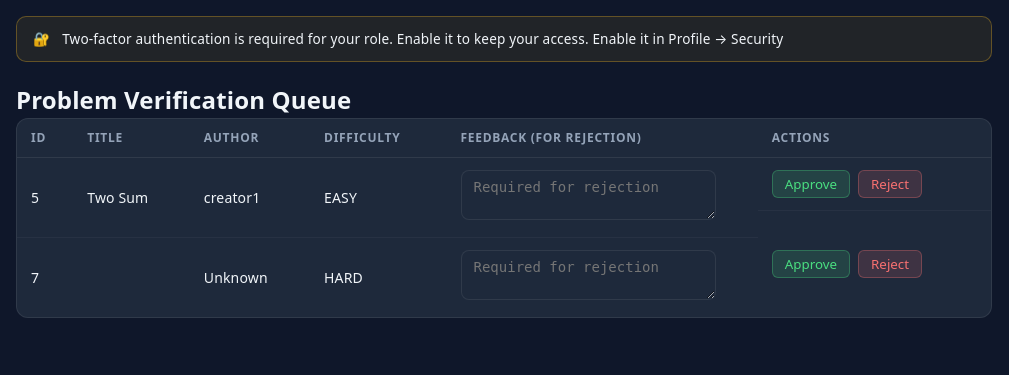
Scenario: ProblemVerificationQueuePage (/admin/problem-queue) › blocks rejection when no feedback was entered
Expected: the link "Two Sum" is shown, [87,188,148,207]
Click the button "Reject" in the row of "Two Sum" at coordinates (890, 184), box [858,170,922,198]
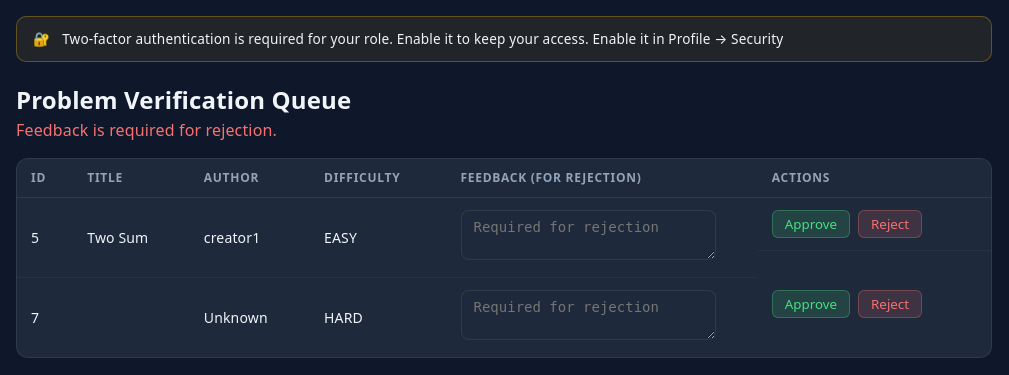
Now the text "Feedback is required for rejection." is shown, box [16,119,277,141]
